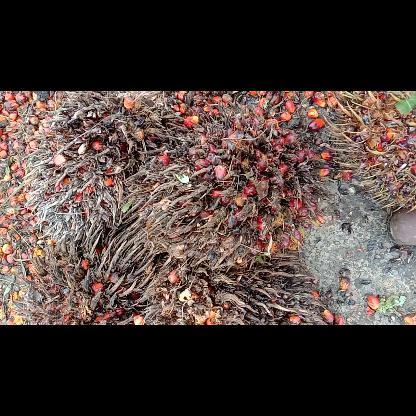Terlalu masak: (122, 101, 330, 277), (19, 90, 197, 254), (140, 232, 324, 324), (10, 229, 162, 323)
